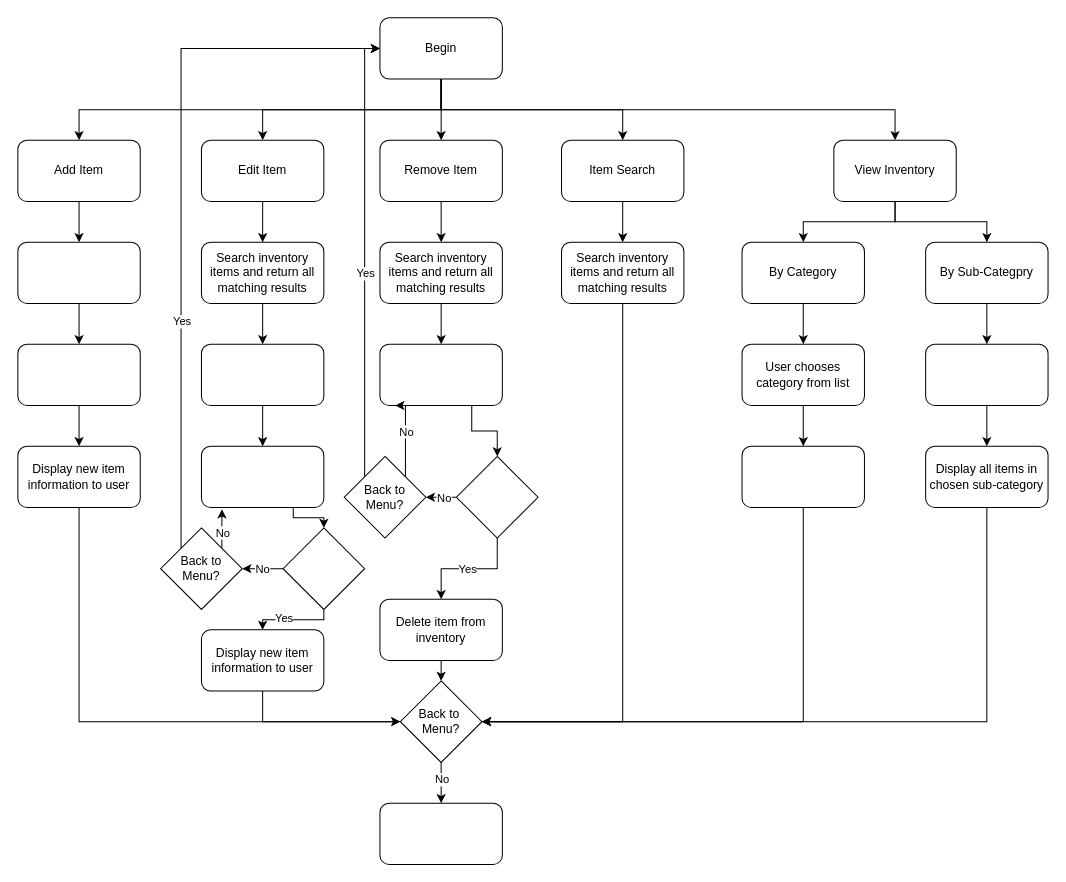
Image size: 1066x882. Some labels were removed from this diagram. The box of each missing label's shape, as (x1, y1, x2, y2) in pixels:
Create new hash containing item information: (17, 343, 140, 405)
Display all items in chosen category: (741, 445, 864, 507)
End: (379, 802, 502, 864)
Keep changes?: (282, 527, 365, 609)
Remove Item?: (455, 455, 538, 538)
User chooses sub-category from list: (925, 343, 1048, 405)
User edits item information: (200, 445, 324, 507)
User inputs item information (name, SKU, qty, etc): (17, 241, 140, 303)
User selects item to edit: (200, 343, 324, 405)
User selects item to remove: (379, 343, 502, 405)
